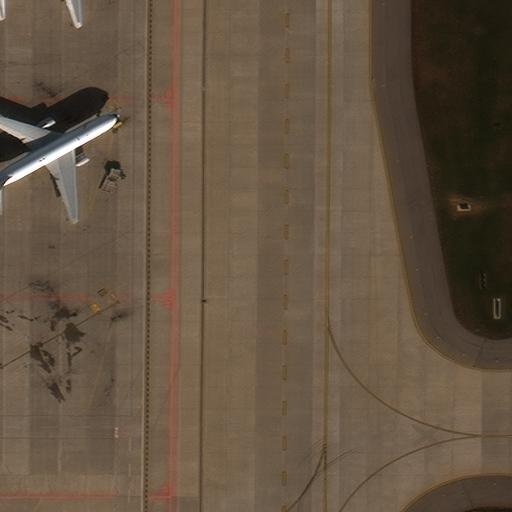Large Civil Transport: (0, 109, 118, 221), (0, 0, 91, 24)
